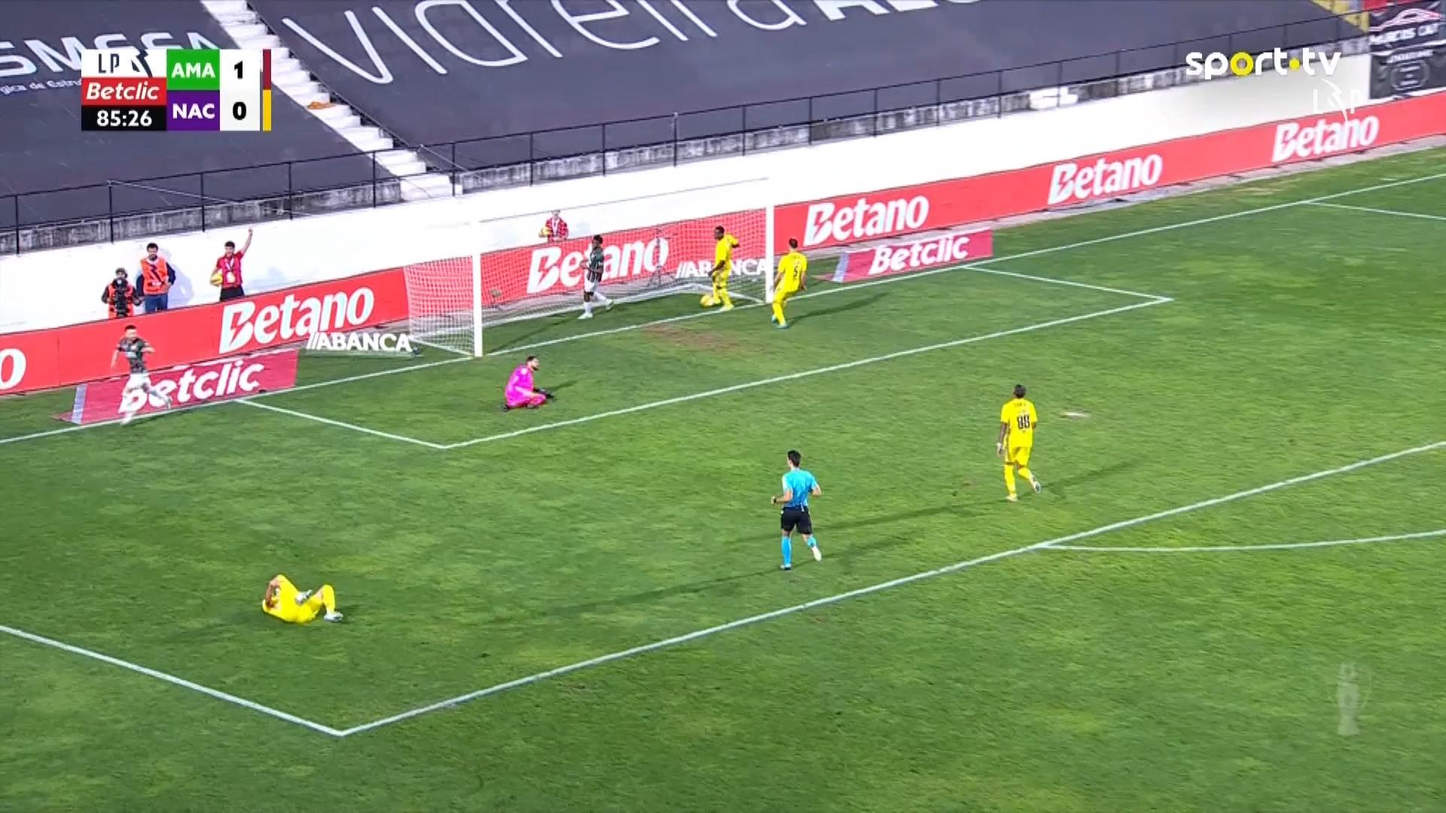ball: (700, 294, 713, 306), (538, 225, 551, 236)
goalkeeper: (502, 354, 554, 410)
player: (109, 324, 172, 413), (995, 383, 1041, 501), (261, 573, 343, 625), (768, 236, 808, 328), (700, 224, 740, 312), (576, 233, 614, 319)
referee: (769, 449, 822, 570)
